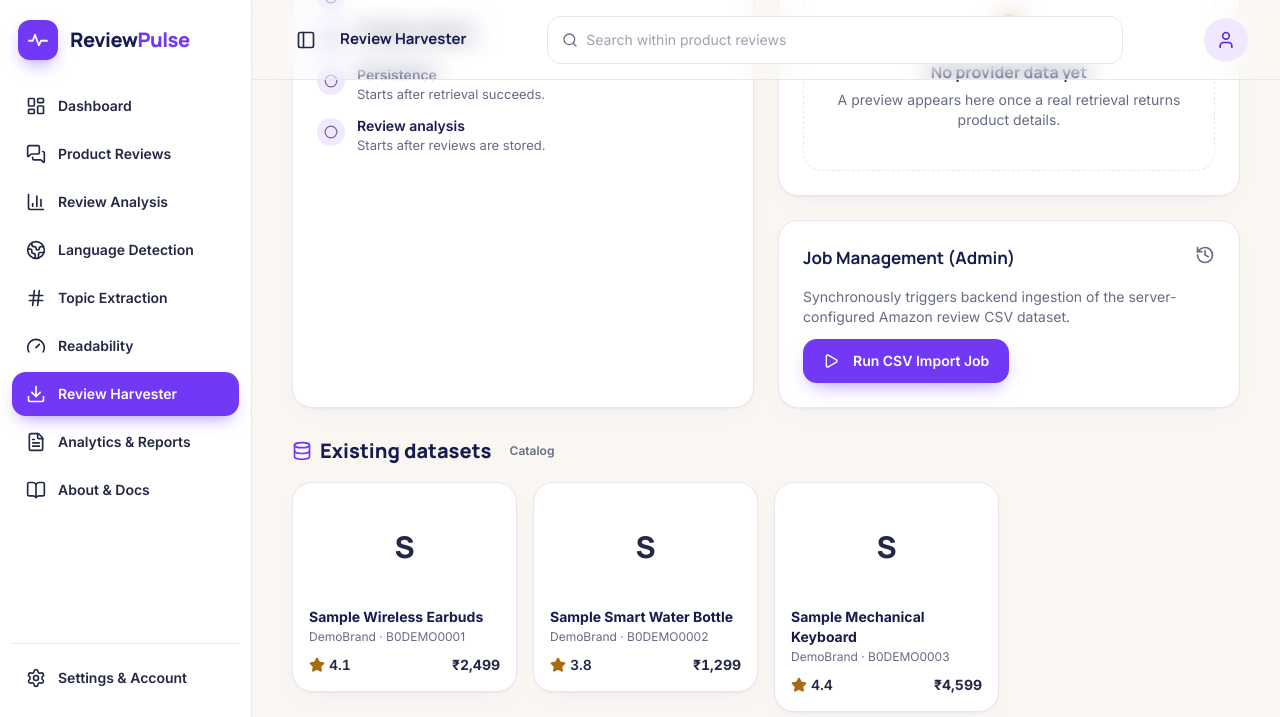
Interactive On-Demand Tool Integrations › HARV-05: executes admin CSV import job and reports inserted items count
(page scrolled)
What coordinates should you click on to do the following:
click the button "Run CSV Import Job"
I would click on:
 (906, 360)
Its box is [803,338,1009,382].
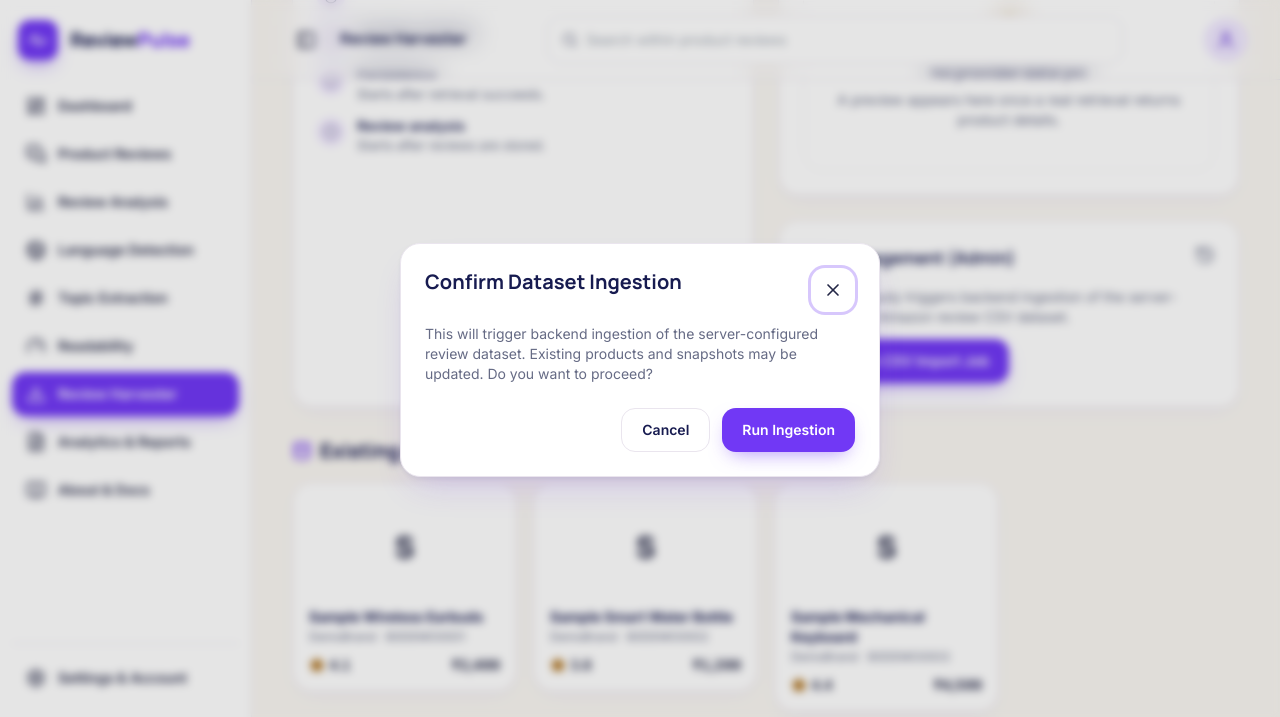
What coordinates should you click on to do the following:
click the button "Run Ingestion"
I would click on:
 (789, 430)
Its box is [722,408,855,452].
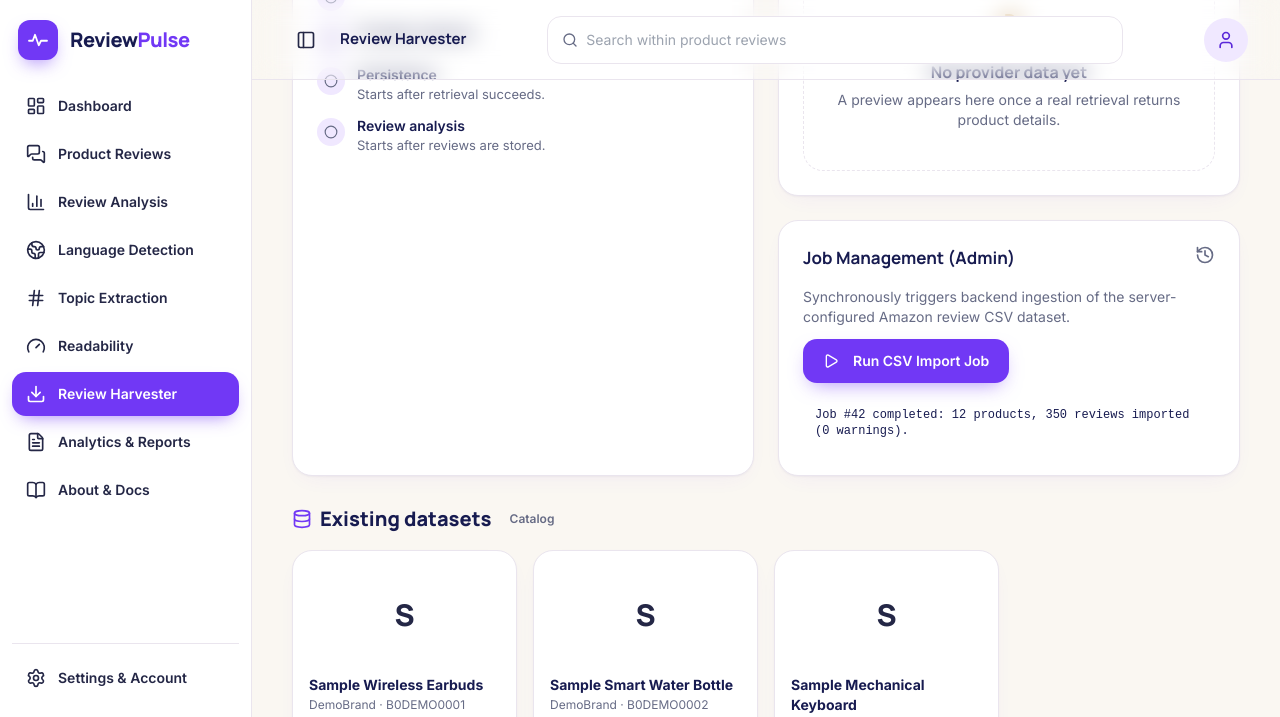
Check: the text "Job #42 completed: 12 products, 350 reviews imported" is shown, box [815,408,1190,438]
